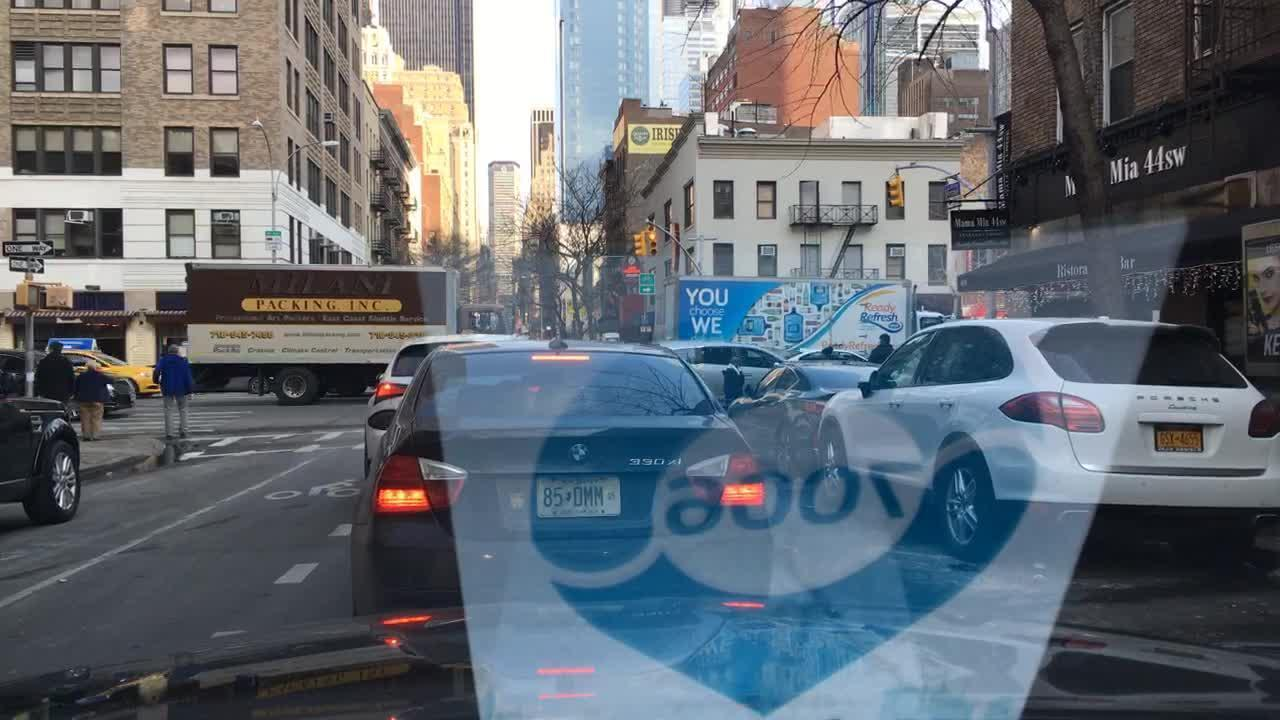bmw: (556, 433, 597, 467)
